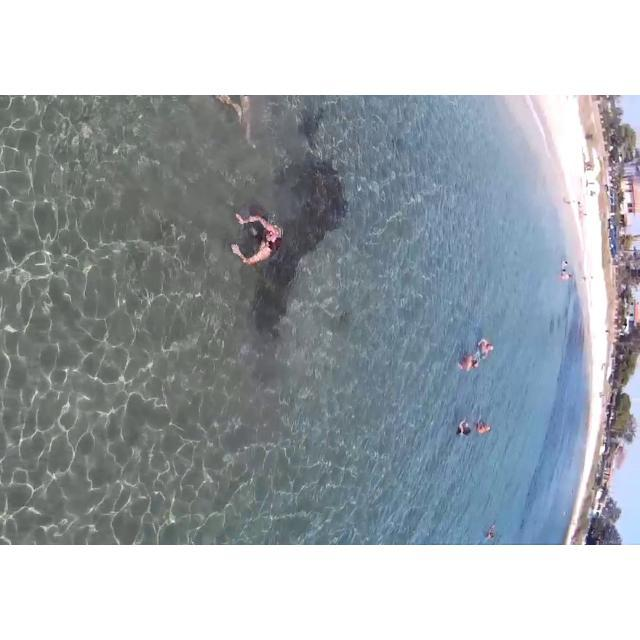human: (223, 201, 284, 281), (217, 95, 269, 156), (453, 348, 486, 382), (481, 332, 507, 362), (458, 406, 474, 450), (471, 415, 495, 441)
